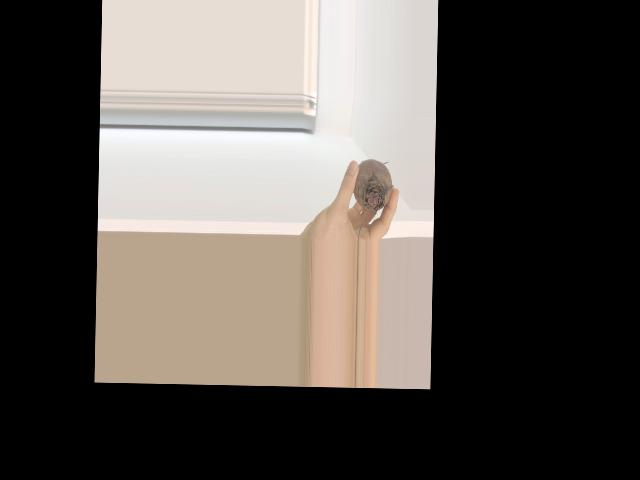beet: (351, 158, 394, 240)
